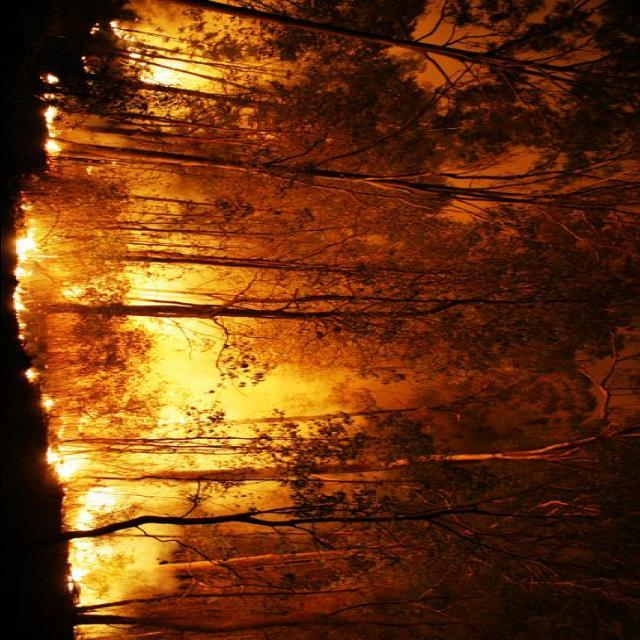Fire: (46, 259, 312, 602), (137, 28, 265, 130)
